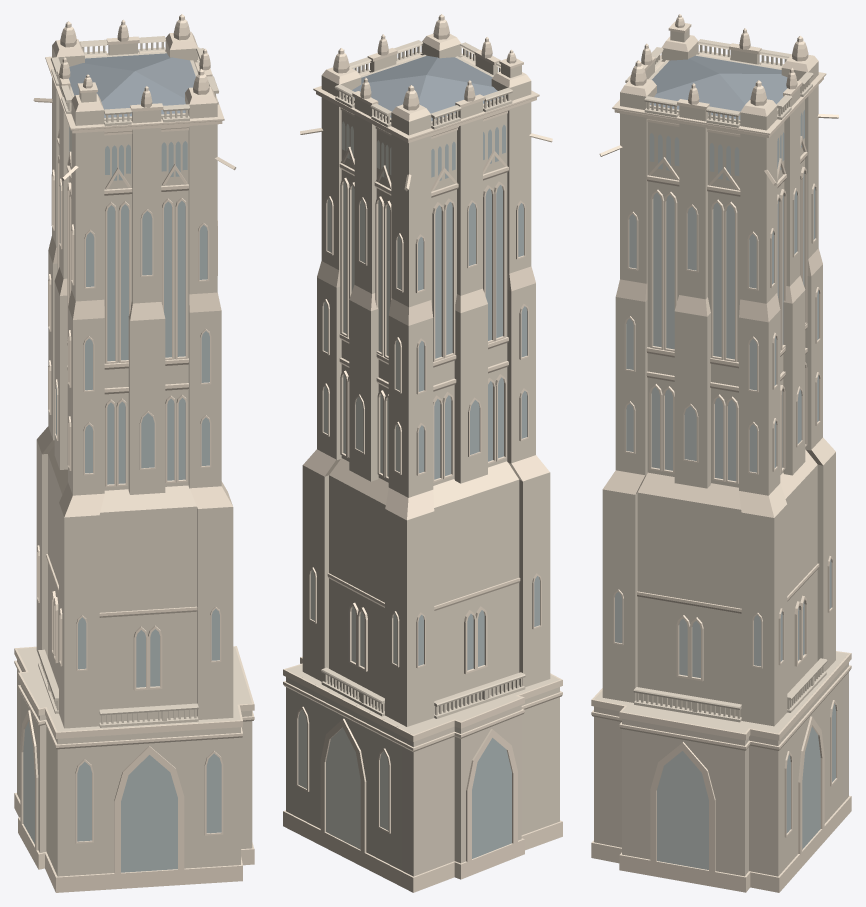
The model's file is detail.glb.
3 views of the same model, side by side, from view 1: azimuth 30°, elevation 25°; view 2: azimuth 150°, elevation 25°; view 3: azimuth 270°, elevation 25° (orthographic). The views are drawn at different scales.
Parts seen in each view (by area): view 1: stone, trim, window, roof; view 2: stone, trim, window, roof; view 3: stone, trim, window, roof.
Boxes of the visible parts, bbox=[...] form: stone: bbox=[17, 36, 252, 876]; trim: bbox=[14, 14, 254, 892]; window: bbox=[23, 127, 221, 872]; roof: bbox=[69, 53, 195, 117]; stone: bbox=[286, 40, 559, 876]; trim: bbox=[283, 14, 562, 892]; window: bbox=[298, 121, 539, 858]; roof: bbox=[352, 55, 503, 120]; stone: bbox=[594, 28, 848, 876]; trim: bbox=[591, 14, 851, 892]; window: bbox=[615, 110, 835, 869]; roof: bbox=[650, 55, 787, 119].
Size of the model in its own units: 15.3 by 52 by 15.5.
